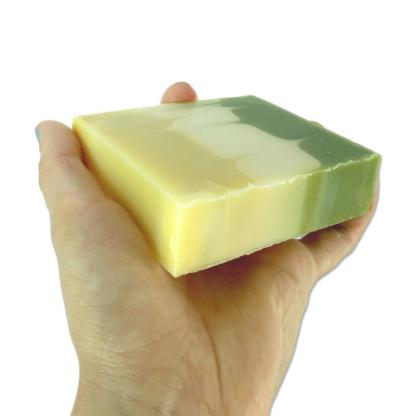soap: (70, 84, 380, 282)
